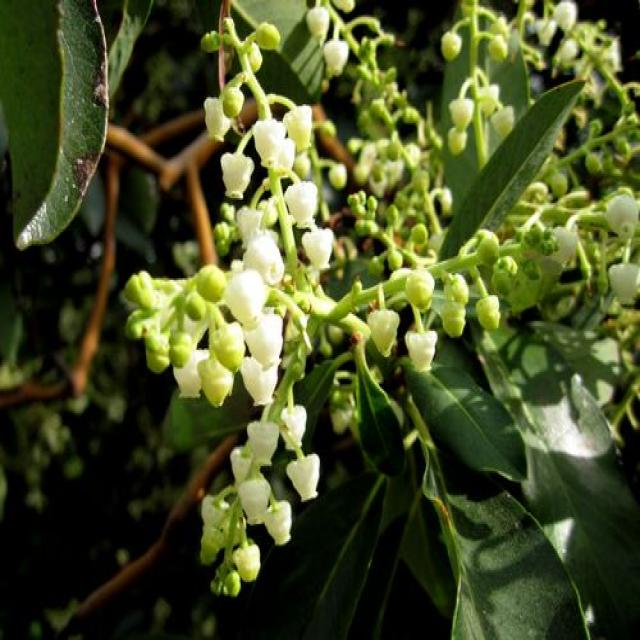Arbutus menziesii: (124, 16, 590, 605)
